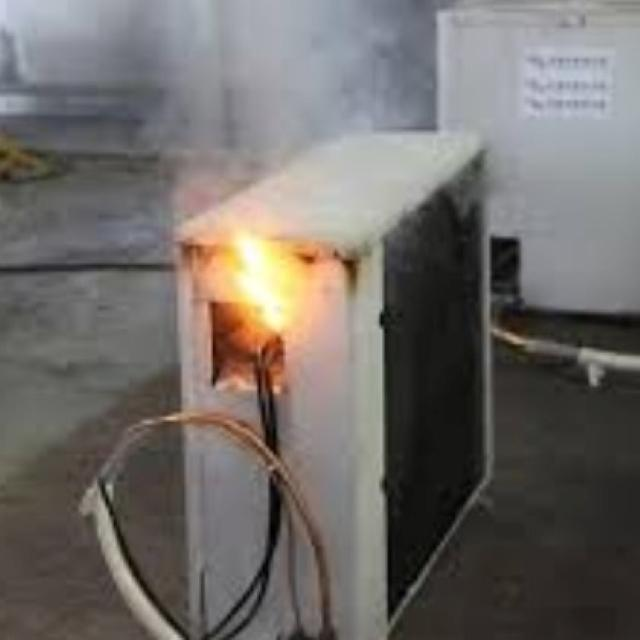Fire: (222, 222, 306, 344)
